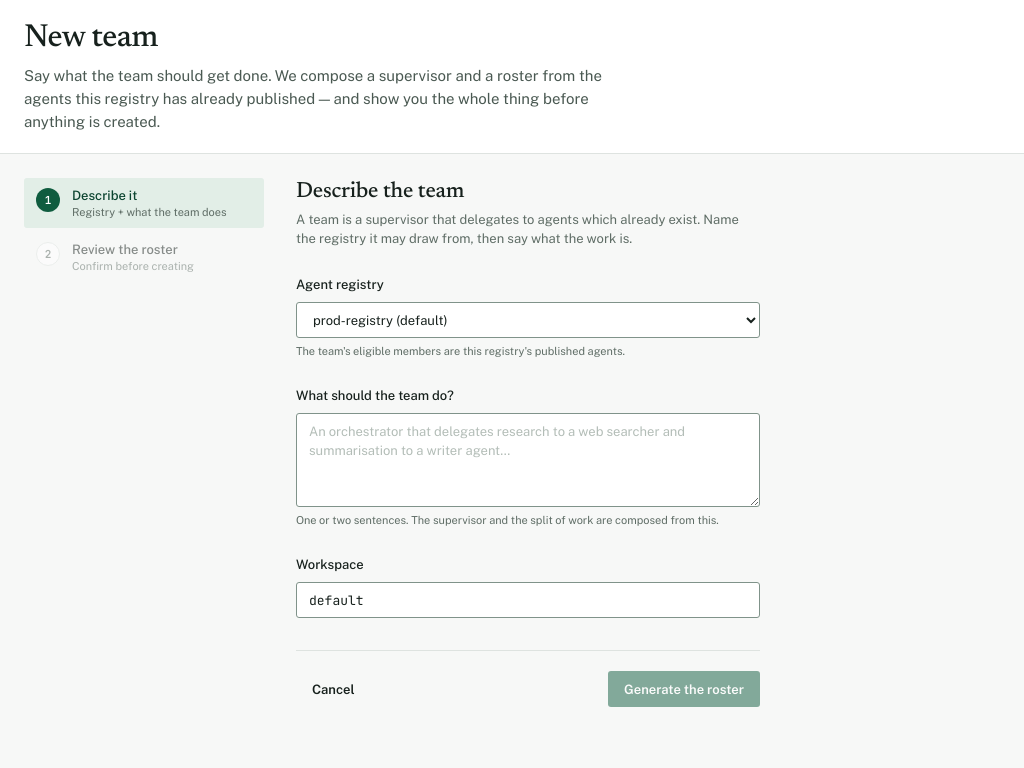
CreateTeamPage (m71.7) › shows regenerate-hint on a 422 with regenerate:true
Replace the text in the text box with test id "team-description" with "a team". click: (528, 460)
box: left=296, top=413, right=760, bottom=507
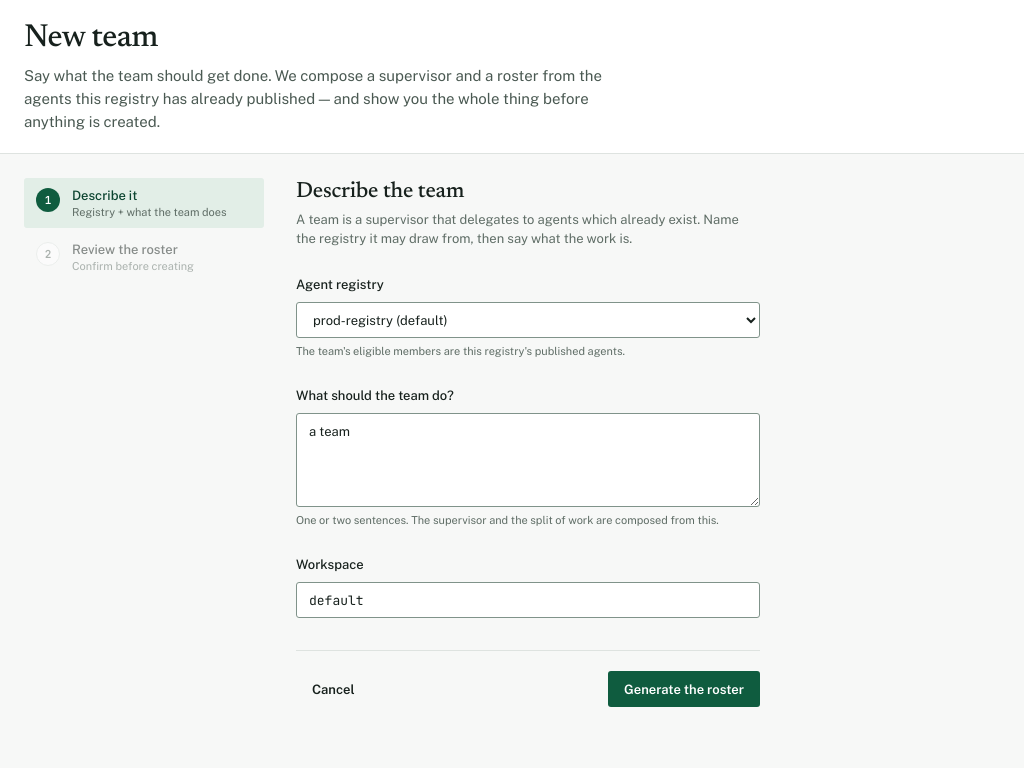
Click the button "Generate the roster". click: (684, 689)
box: left=608, top=671, right=760, bottom=707
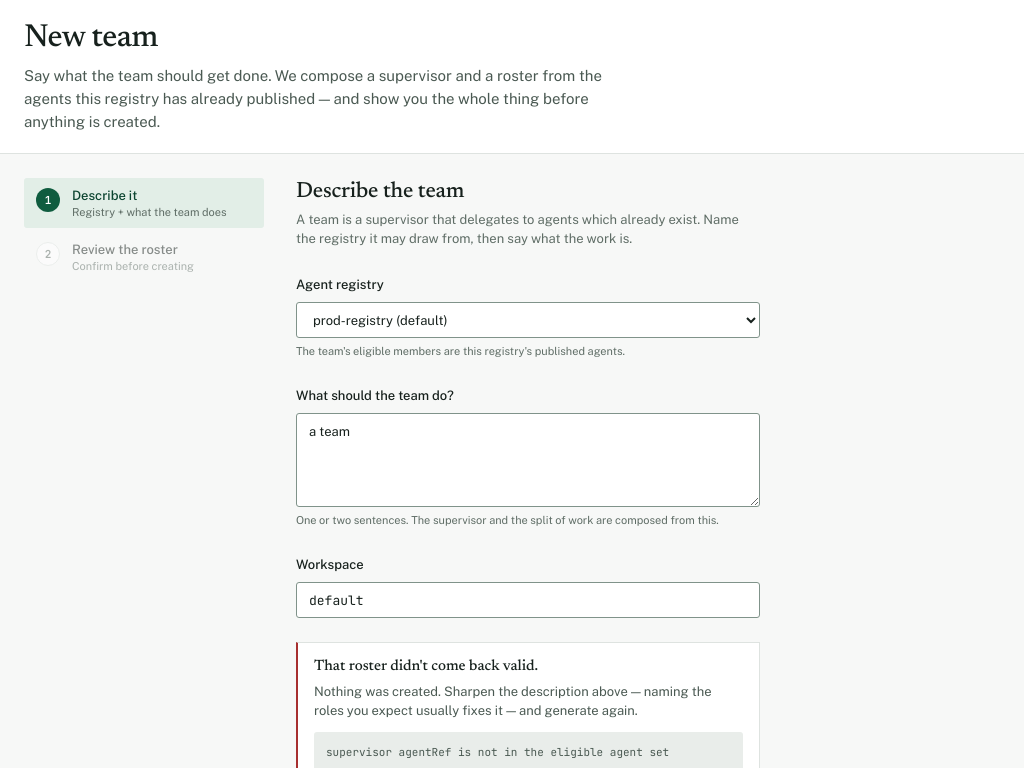
Now the message with test id "regenerate-hint" shows "supervisor agentRef is not in the eligible agent set", box left=326, top=745, right=669, bottom=759
